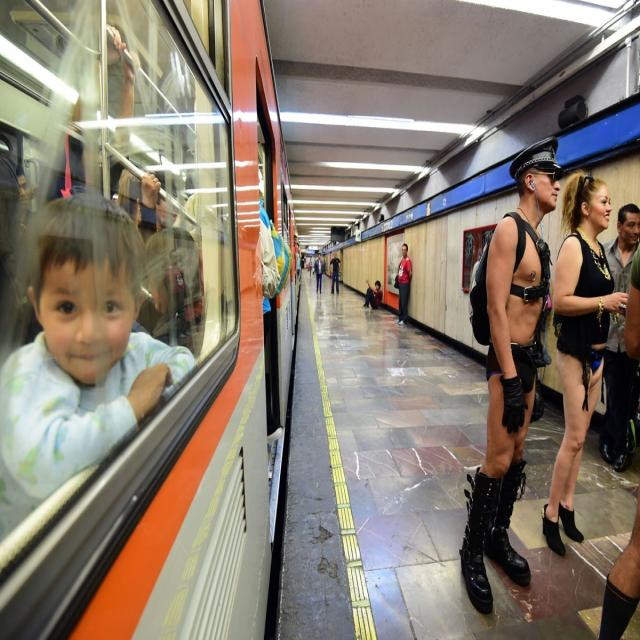body: (0, 190, 199, 542), (456, 129, 567, 617), (541, 168, 630, 559), (39, 22, 141, 205), (595, 243, 640, 639), (140, 170, 204, 357), (597, 202, 640, 472), (259, 200, 285, 450), (0, 146, 31, 260), (392, 243, 413, 326), (362, 278, 383, 310), (328, 252, 342, 294), (314, 252, 324, 294), (312, 291, 324, 325), (293, 234, 301, 284), (307, 257, 316, 277), (323, 258, 327, 277)
